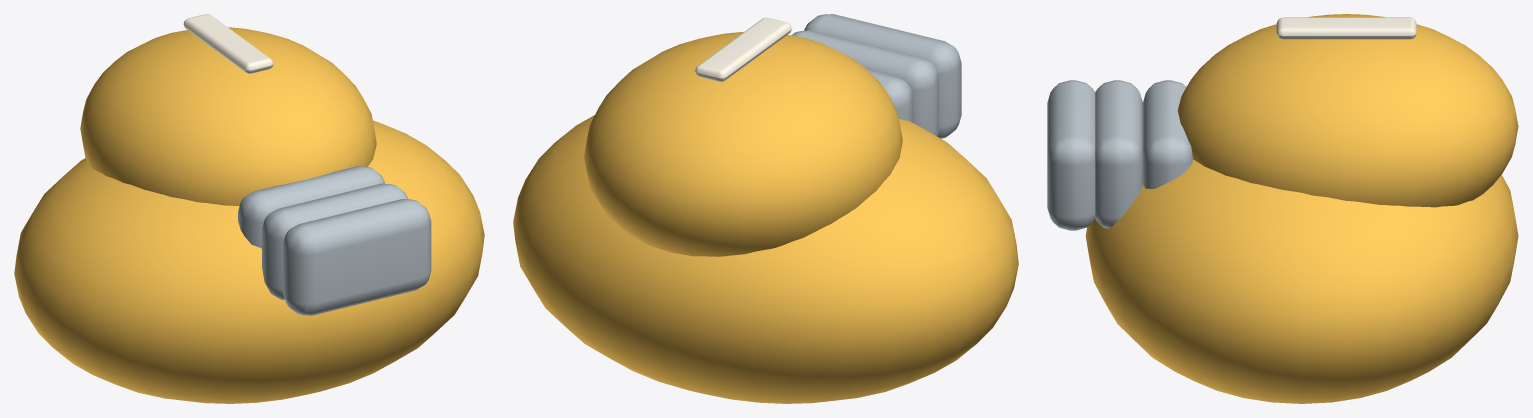
Rendered from tile_bulb.fbx.
3 renders of one model, left to right at view 1: azimuth 30°, elevation 25°; view 2: azimuth 150°, elevation 25°; view 3: azimuth 270°, elevation 25°, orthographic. The views are drawn at different scales.
Visible parts, largest first — view 1: Glazed body.001, Glass light, Screw socket.002, Screw socket.001, Screw socket, Filament; view 2: Glazed body.001, Glass light, Screw socket.002, Screw socket.001, Filament, Screw socket; view 3: Glazed body.001, Glass light, Screw socket.002, Screw socket.001, Screw socket, Filament.
Part boxes in pixels (box(x1,y1,x2,y2)): Glazed body.001: box(14, 120, 484, 403); Glass light: box(80, 27, 376, 206); Screw socket.002: box(283, 199, 431, 315); Screw socket.001: box(262, 183, 408, 299); Screw socket: box(238, 166, 384, 248); Filament: box(183, 14, 273, 73); Glazed body.001: box(513, 115, 1018, 403); Glass light: box(584, 32, 902, 256); Screw socket.002: box(804, 14, 961, 138); Screw socket.001: box(791, 30, 938, 136); Filament: box(695, 17, 791, 81); Screw socket: box(867, 69, 913, 122); Glazed body.001: box(1085, 159, 1518, 403); Glass light: box(1177, 14, 1518, 207); Screw socket.002: box(1047, 80, 1095, 230); Screw socket.001: box(1095, 80, 1142, 228); Screw socket: box(1143, 80, 1193, 188); Filament: box(1276, 17, 1416, 39).
Size of the model in its own units: 0.82 by 0.59 by 0.74.
